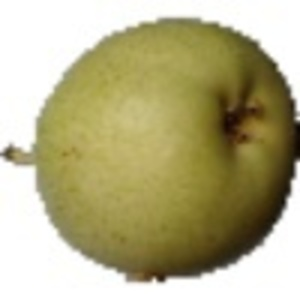pera: (1, 15, 300, 286)
